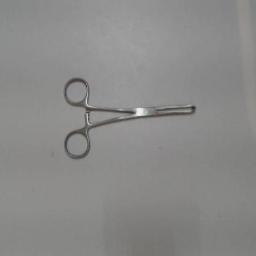Allis Tissue Forceps: (58, 71, 204, 165)
